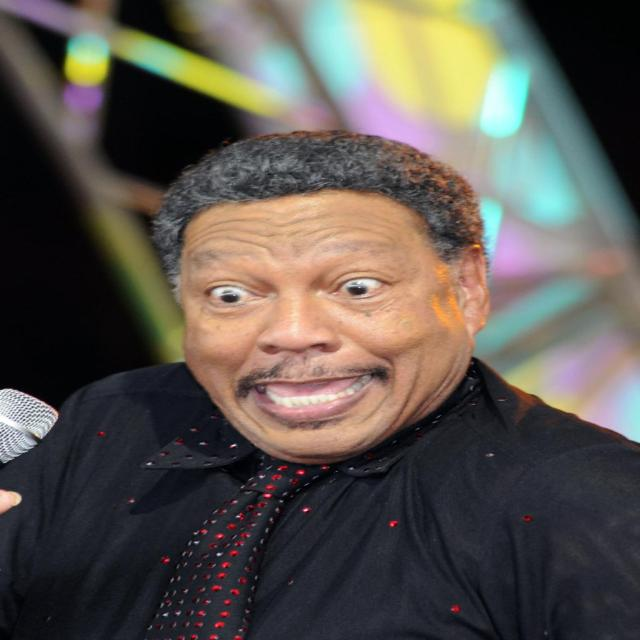Face: (129, 198, 516, 449)
